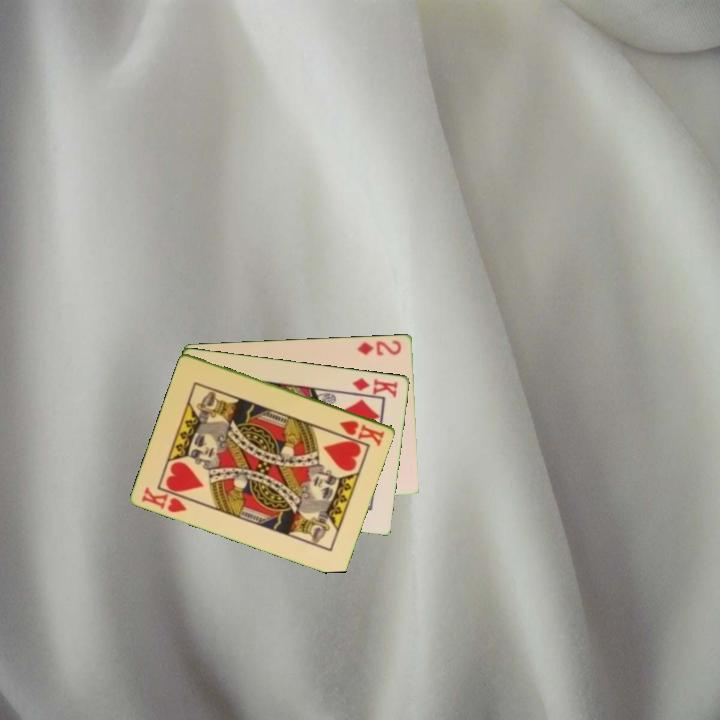2d: (354, 337, 404, 358)
Kd: (349, 374, 401, 400)
Kh: (336, 416, 388, 448), (138, 483, 190, 515)
